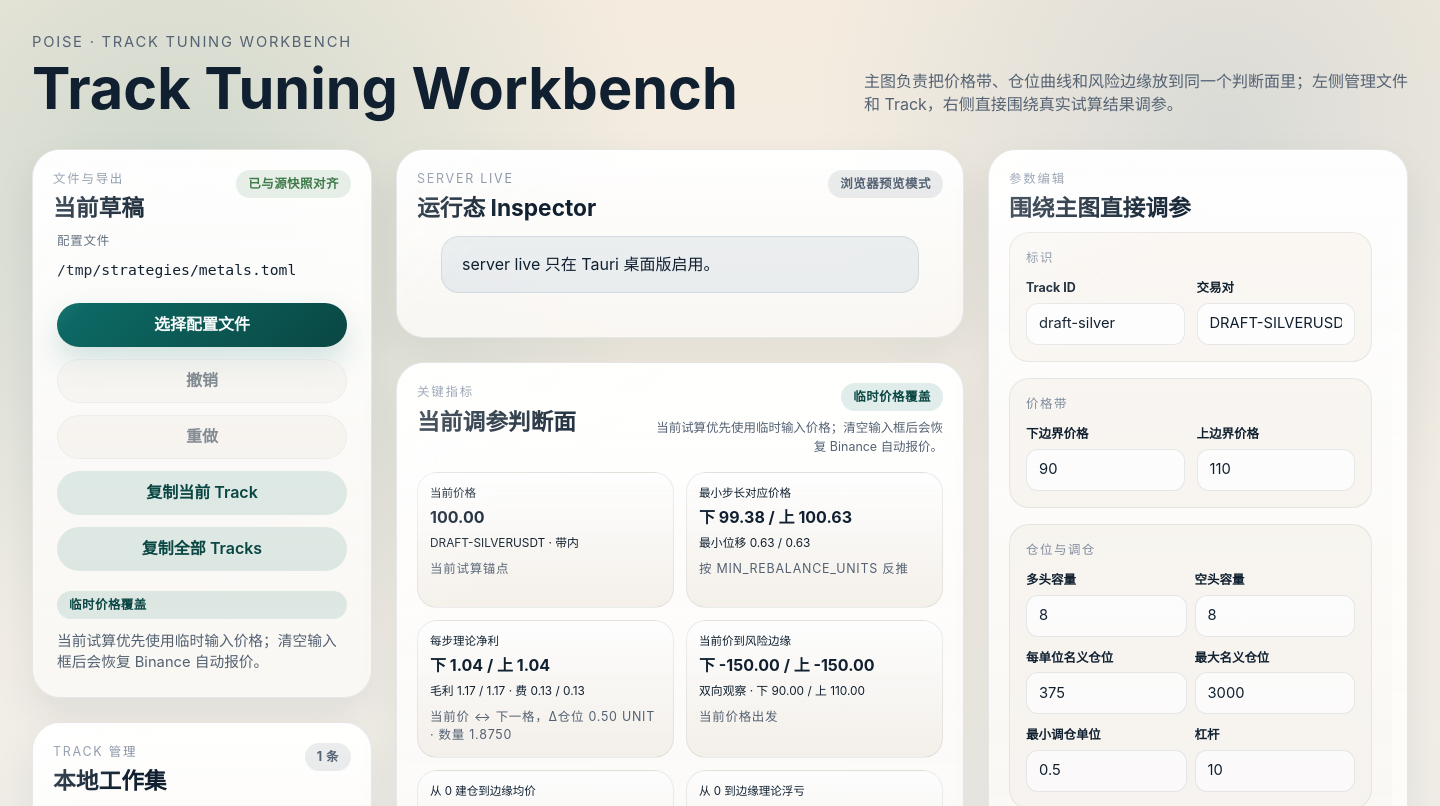
AppShell › copies current track through the export bridge and only writes [ [tracks]] text
Step 1. Click the button "复制当前 Track" → (202, 493), box x1=57 y1=471 x2=347 y2=515
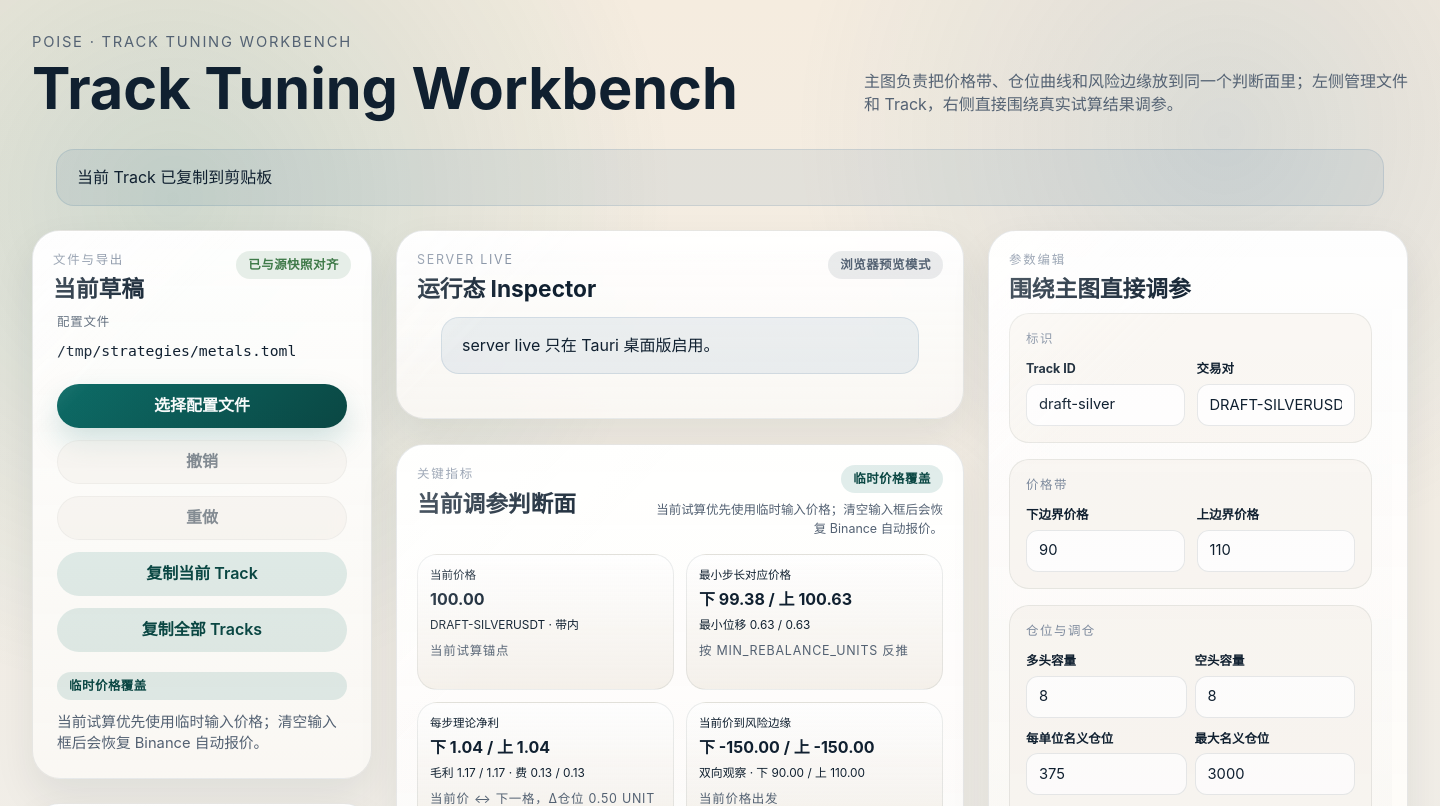
Result: the text "当前 Track 已复制到剪贴板" is shown at x1=77 y1=167 x2=272 y2=187
